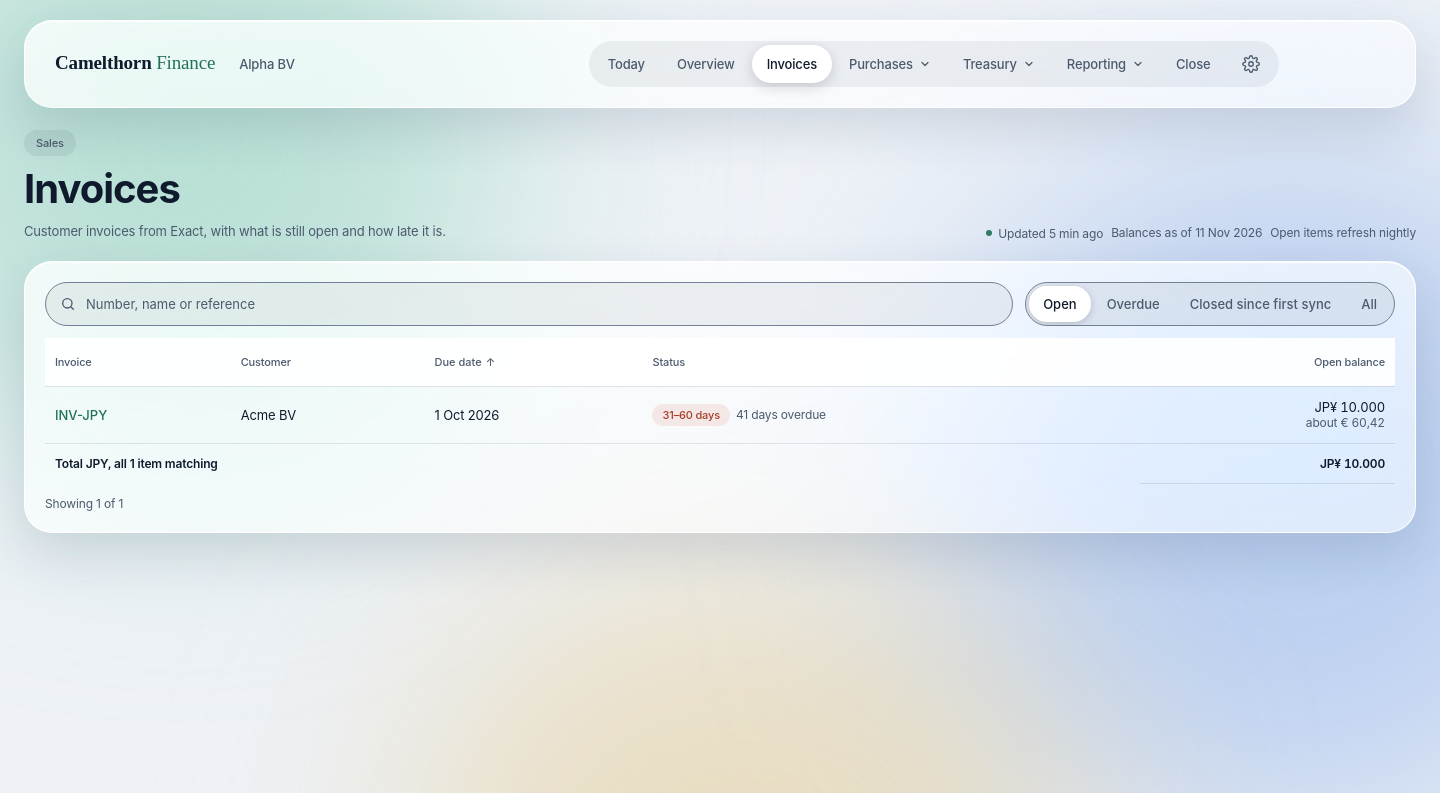
Scenario: implied booked rate: base currency per 1 unit of the item currency (hand checked) › the item sheet writes it with the direction, beside the ECB rate in the ECB's direction
Click the button "INV-JPY" at (81, 415), box [55,403,107,427]
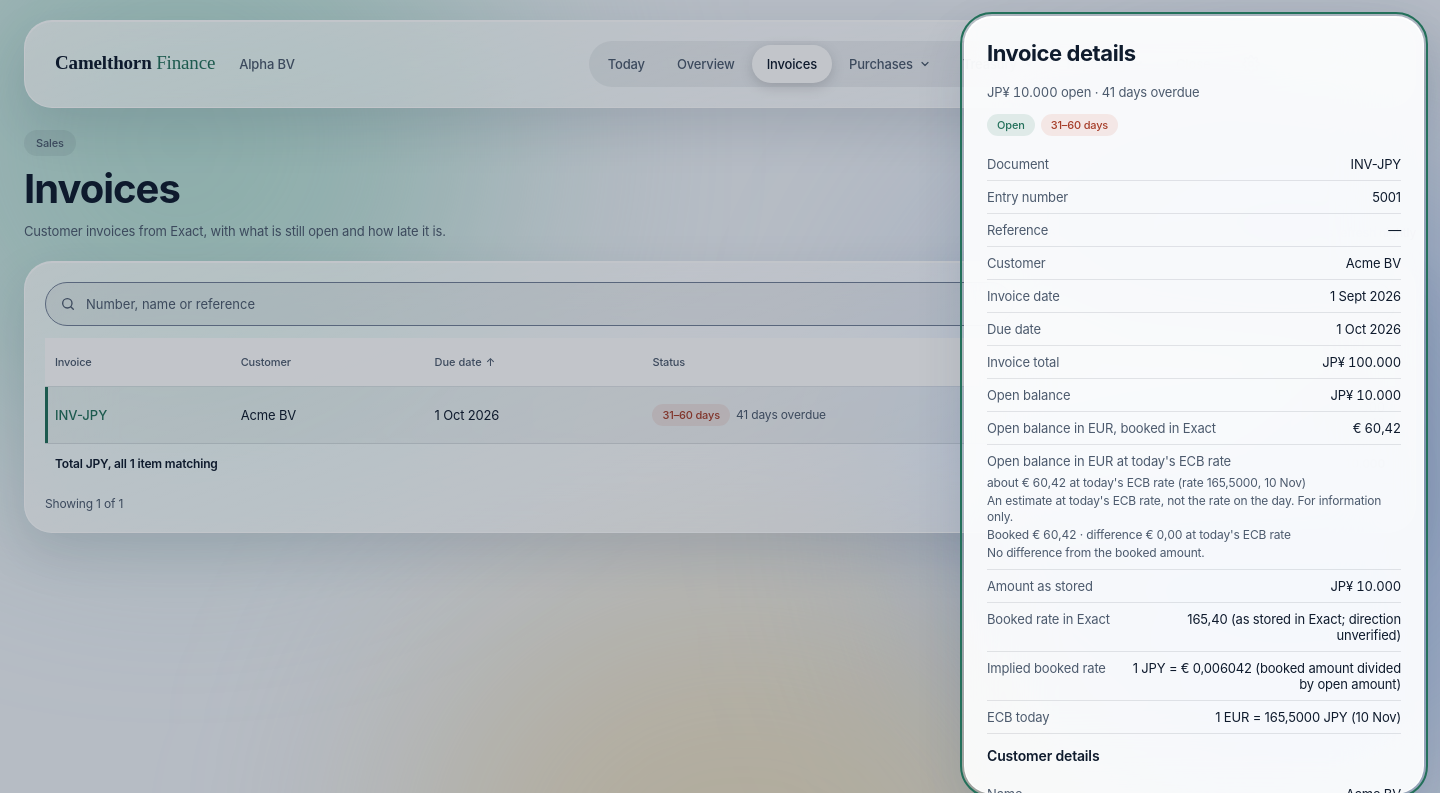
Expected: the text "Implied booked rate" is shown, [987,660,1106,676]
